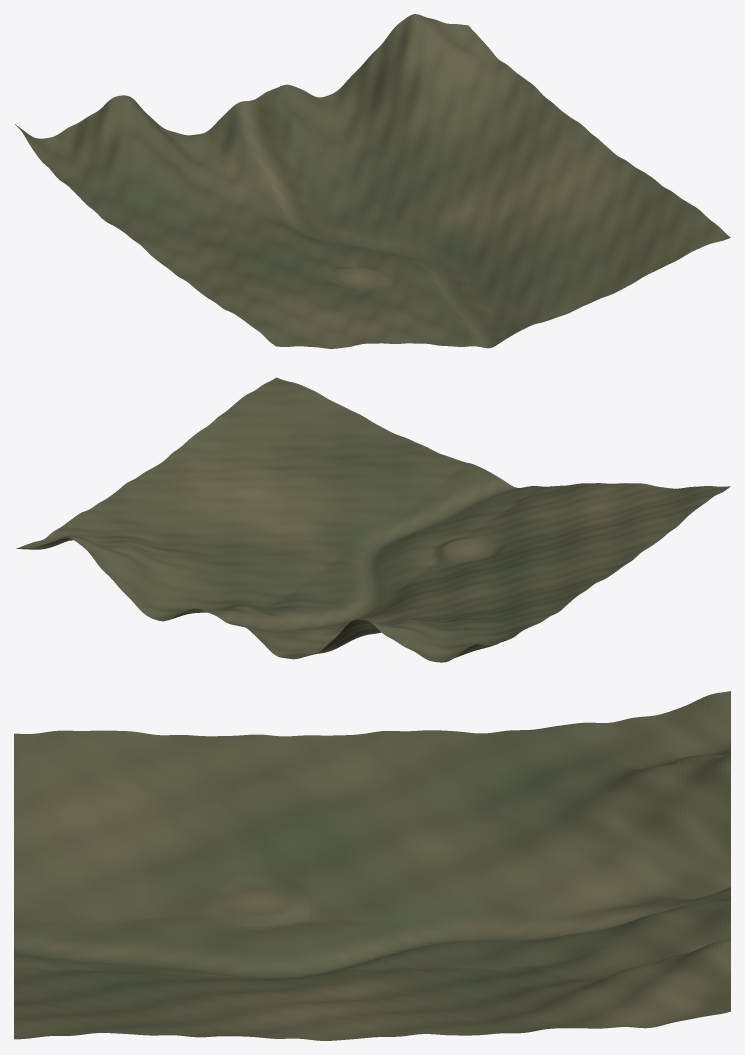
Rendered from habitat-terrain.glb.
3 renders of one model, top to bottom at view 1: azimuth 30°, elevation 25°; view 2: azimuth 150°, elevation 25°; view 3: azimuth 270°, elevation 25°, orthographic. The views are drawn at different scales.
Bounding box in the file's own units: 180 × 36.51 × 180.
Materials: 1 (1 with a texture image).
